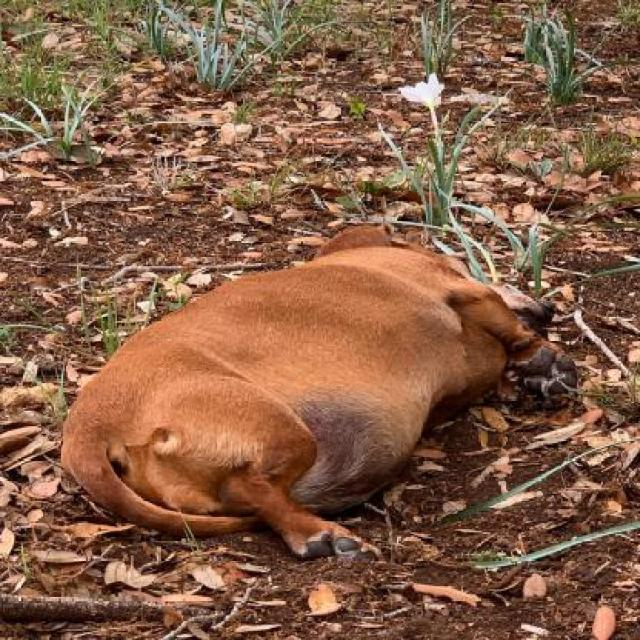Dog: (57, 218, 583, 568)
